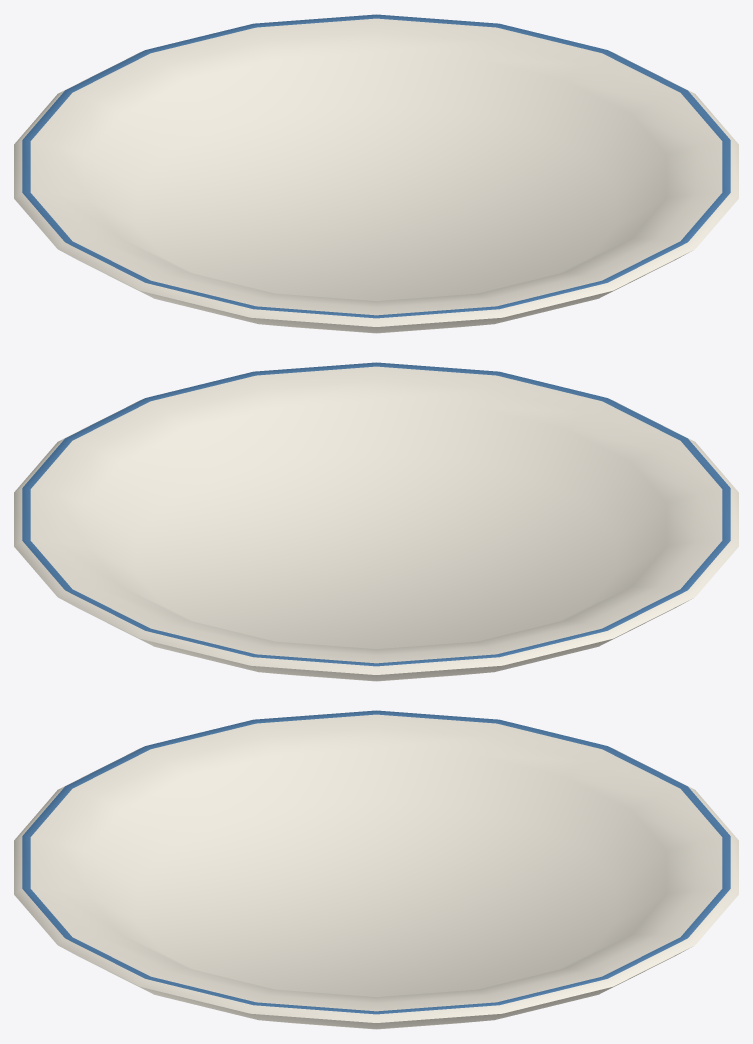
File: plate.glb
The picture shows the model from 3 angles, top to bottom: view 1: azimuth 30°, elevation 25°; view 2: azimuth 150°, elevation 25°; view 3: azimuth 270°, elevation 25°; orthographic projection.
Parts seen in each view (by area): view 1: plate; view 2: plate; view 3: plate.
Part boxes in pixels (x1,y1,x2,y2): plate: [14, 14, 738, 333]; plate: [14, 362, 738, 681]; plate: [14, 710, 738, 1029].
Size of the model in its own units: 0.26 by 0.025 by 0.2561.
Materials: 1 (1 with a texture image).
